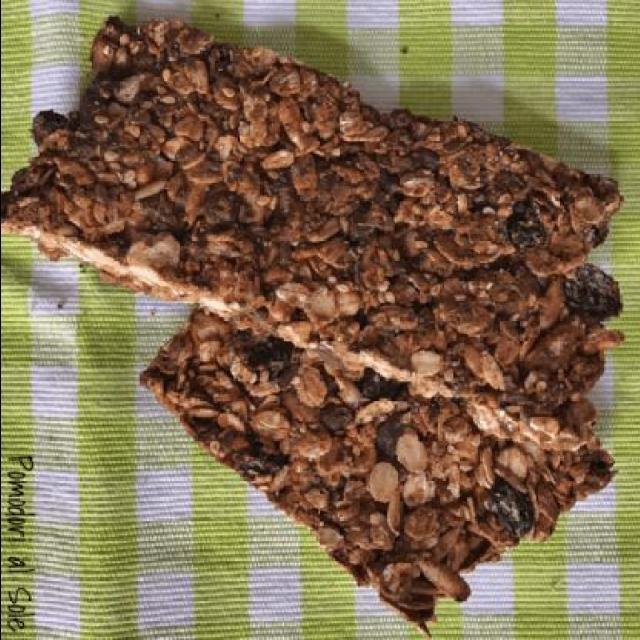Cereal bar packaged: (1, 9, 607, 411)
